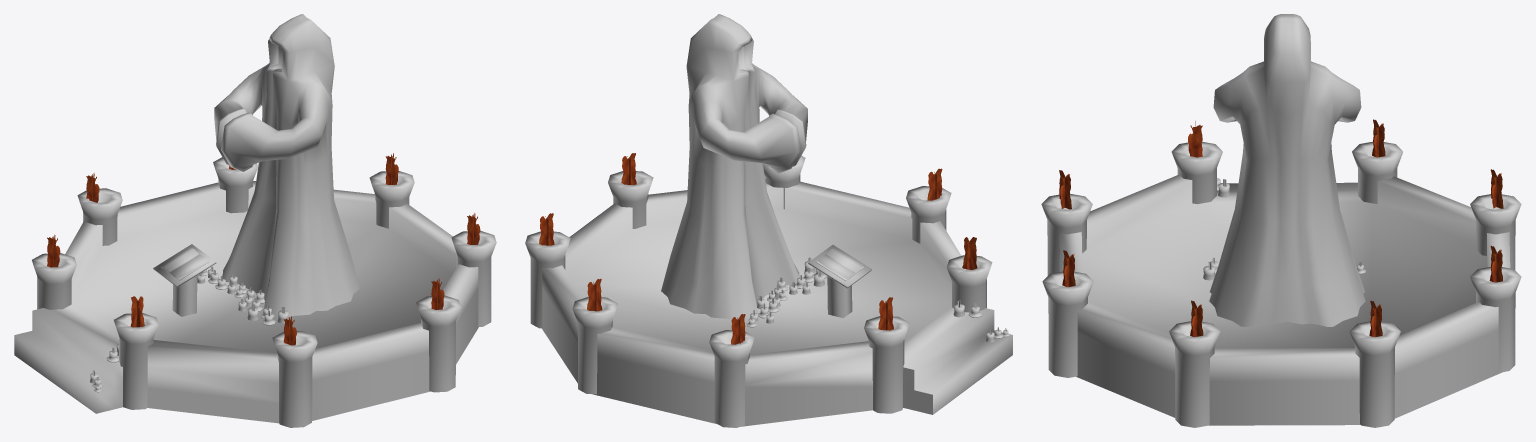
The model's file is Semi poly dungeon Statue.fbx.
3 renders of one model, left to right at view 1: azimuth 30°, elevation 25°; view 2: azimuth 150°, elevation 25°; view 3: azimuth 270°, elevation 25°, orthographic. The views are drawn at different scales.
Visible parts, largest first — view 1: Statue Base A.001, Statue A.001, Book Base.001; view 2: Statue Base A.001, Statue A.001, Book Base.001; view 3: Statue Base A.001, Statue A.001.
Boxes of the visible parts, x1,y1,x2,y2 form: Statue Base A.001: (14,157,496,427); Statue A.001: (214,14,359,316); Book Base.001: (153,244,216,316); Statue Base A.001: (525,155,1012,427); Statue A.001: (661,14,807,319); Book Base.001: (808,245,871,318); Statue Base A.001: (1041,141,1521,427); Statue A.001: (1209,14,1365,326).
Size of the model in its own units: 417 by 303 by 394.
